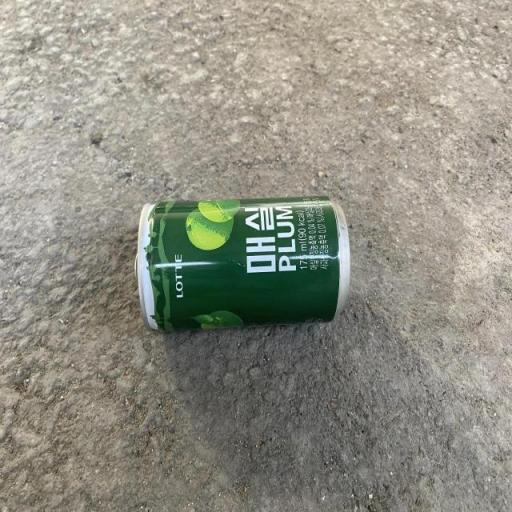metal: (125, 172, 356, 356)
